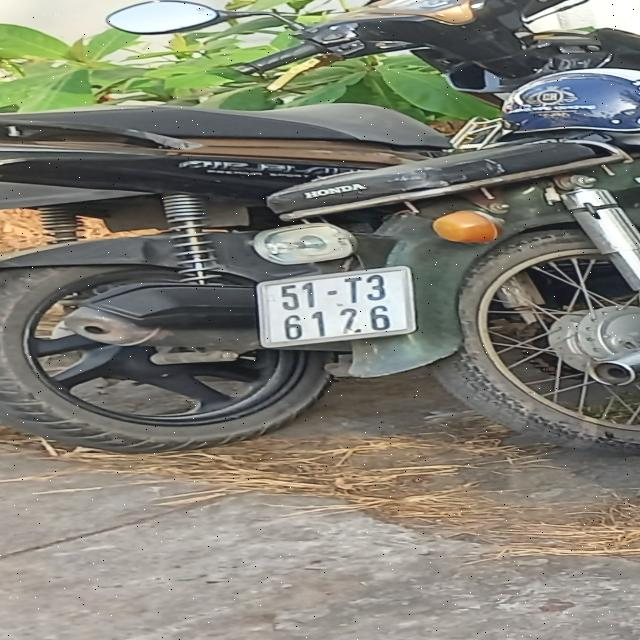1: (306, 307, 330, 337), (300, 281, 318, 308)
2: (335, 306, 362, 335)
3: (366, 274, 388, 301)
5: (276, 284, 301, 310)
6: (368, 304, 395, 332), (280, 311, 304, 341)
T: (339, 276, 362, 303)
